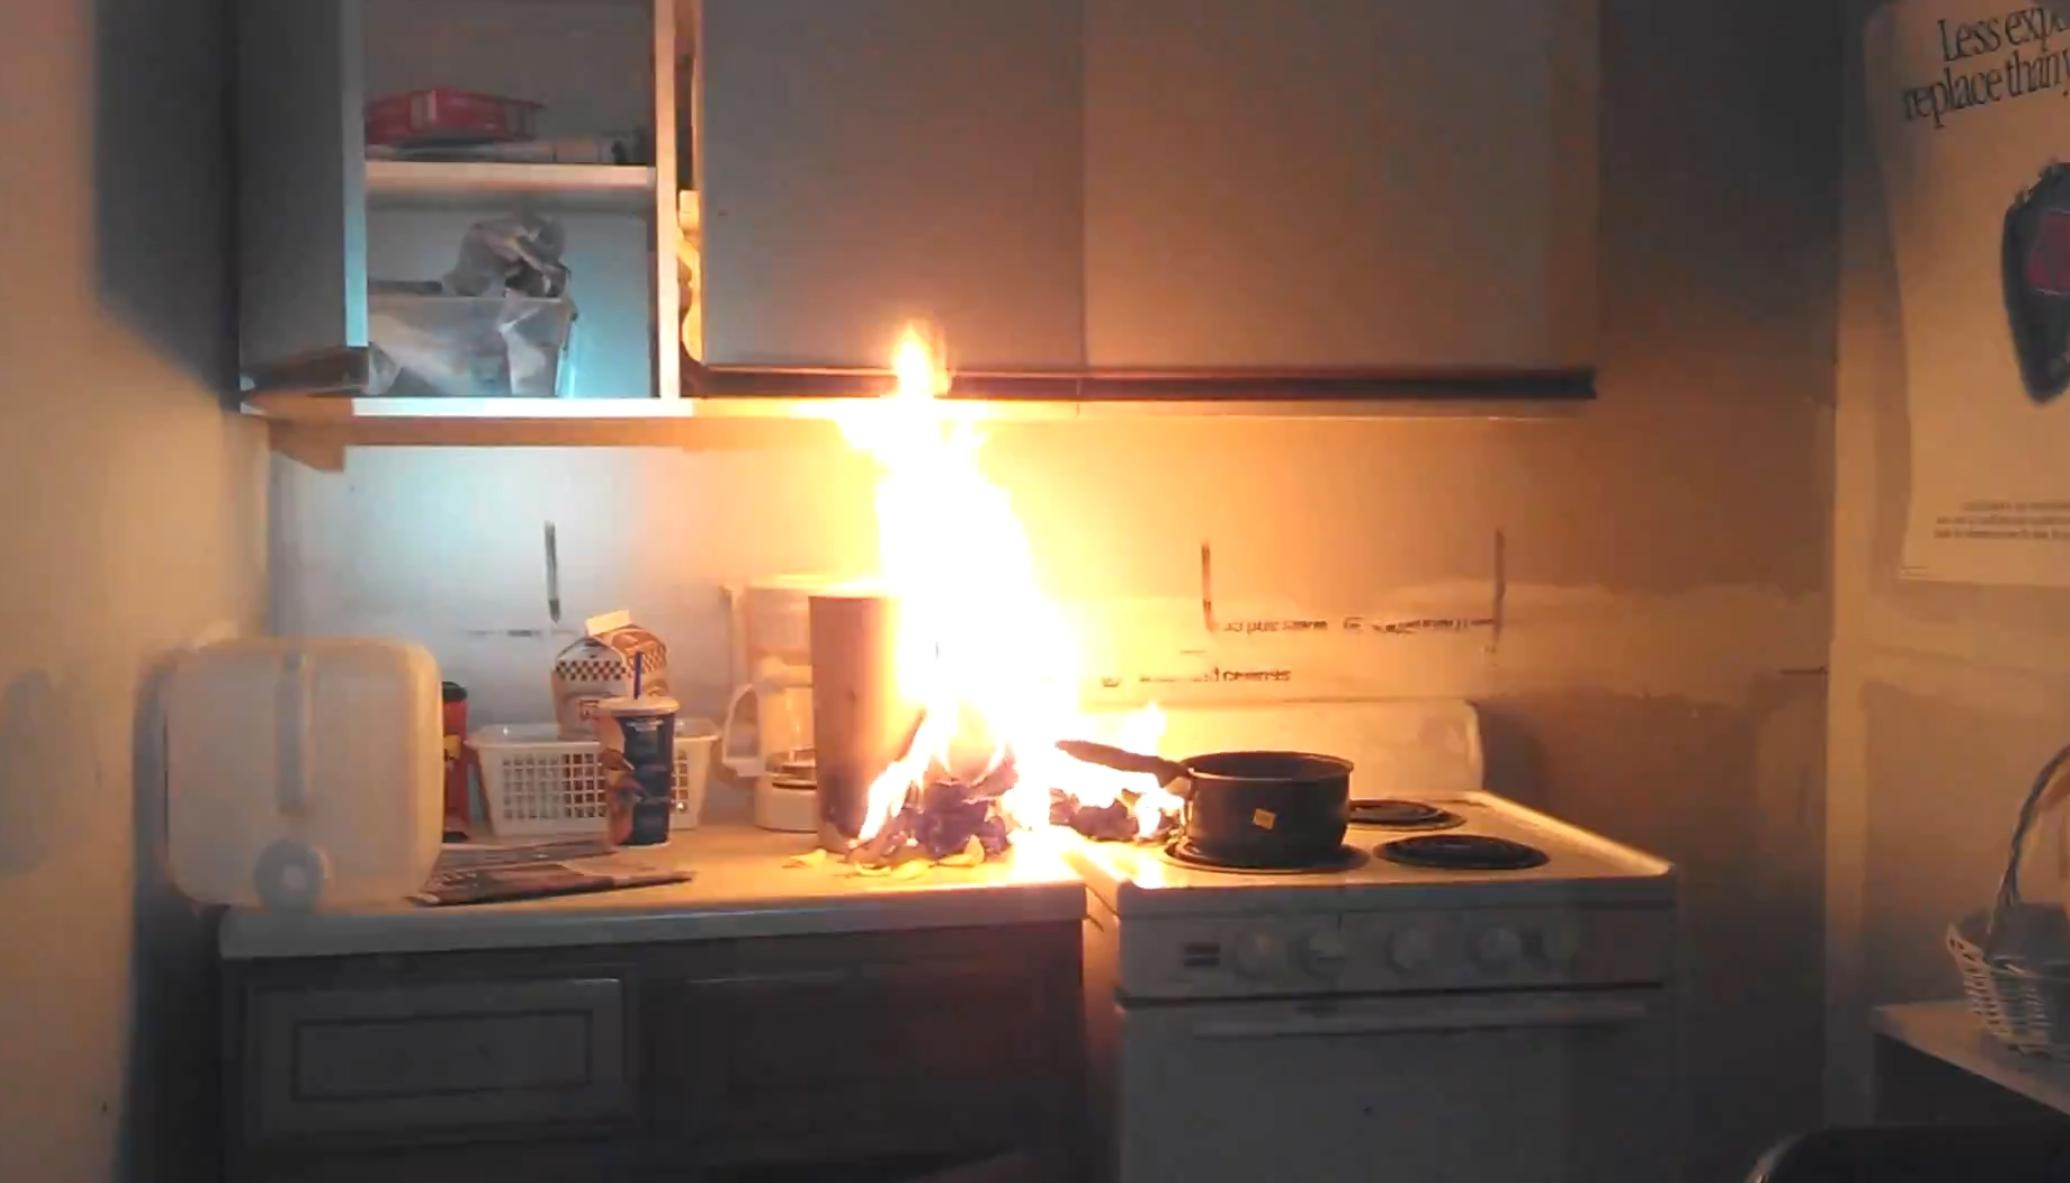fire: (823, 309, 1160, 857)
